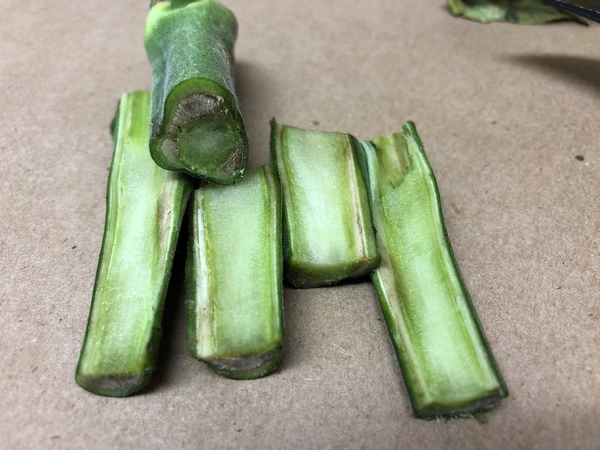Fusarium: (170, 100, 238, 174), (166, 26, 203, 93), (82, 364, 141, 394), (216, 352, 258, 369)
